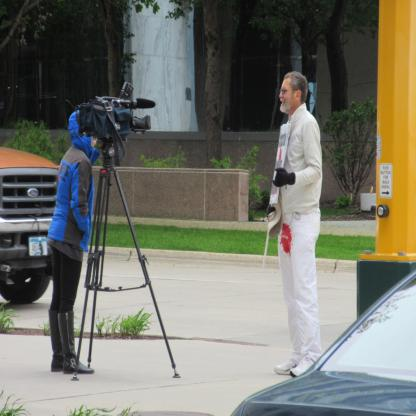Car: (232, 270, 416, 416), (0, 142, 60, 303)
